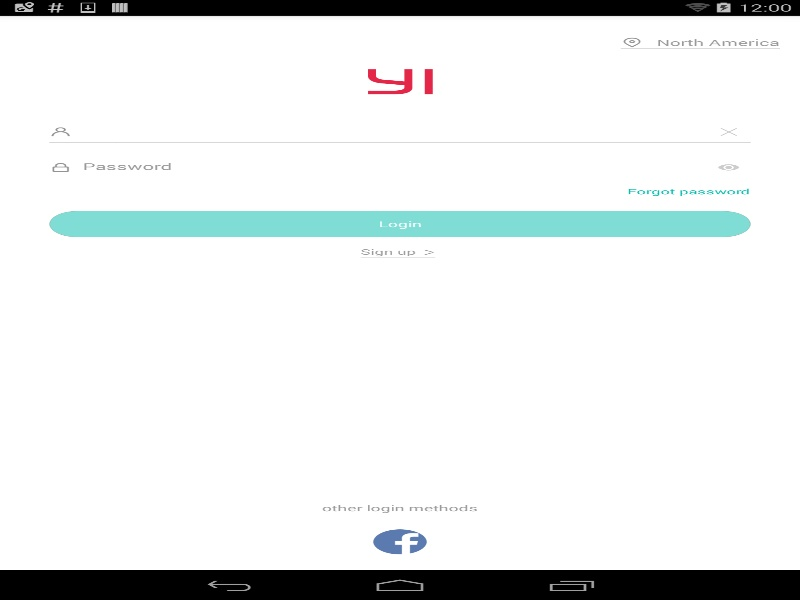Button: (49, 210, 750, 237)
Input: (82, 124, 706, 137), (82, 160, 706, 172)
